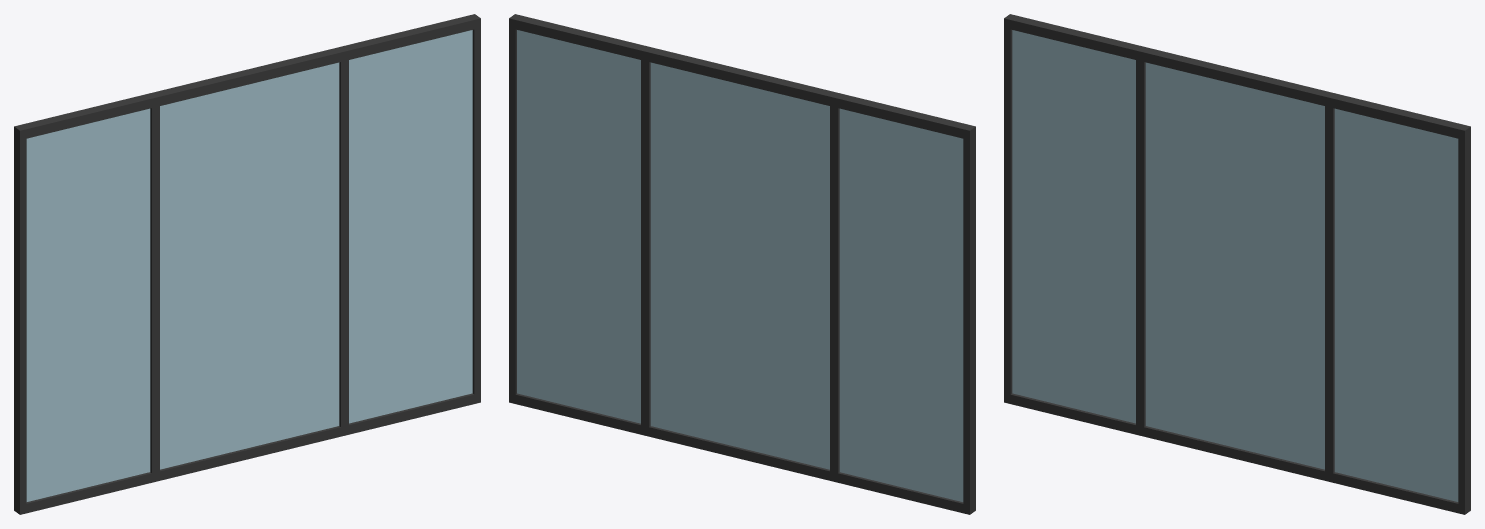
Rendered from Window_13.fbx.
3 views of the same model, side by side, from view 1: azimuth 30°, elevation 25°; view 2: azimuth 150°, elevation 25°; view 3: azimuth 330°, elevation 25° (orthographic).
Visible parts, largest first — view 1: Window_13; view 2: Window_13; view 3: Window_13.
Part boxes in pixels (<box>): Window_13: <box>14,14,480,514</box>; Window_13: <box>509,14,975,514</box>; Window_13: <box>1004,14,1470,514</box>.
Bounding box in the file's own units: 489 × 11 × 390.
